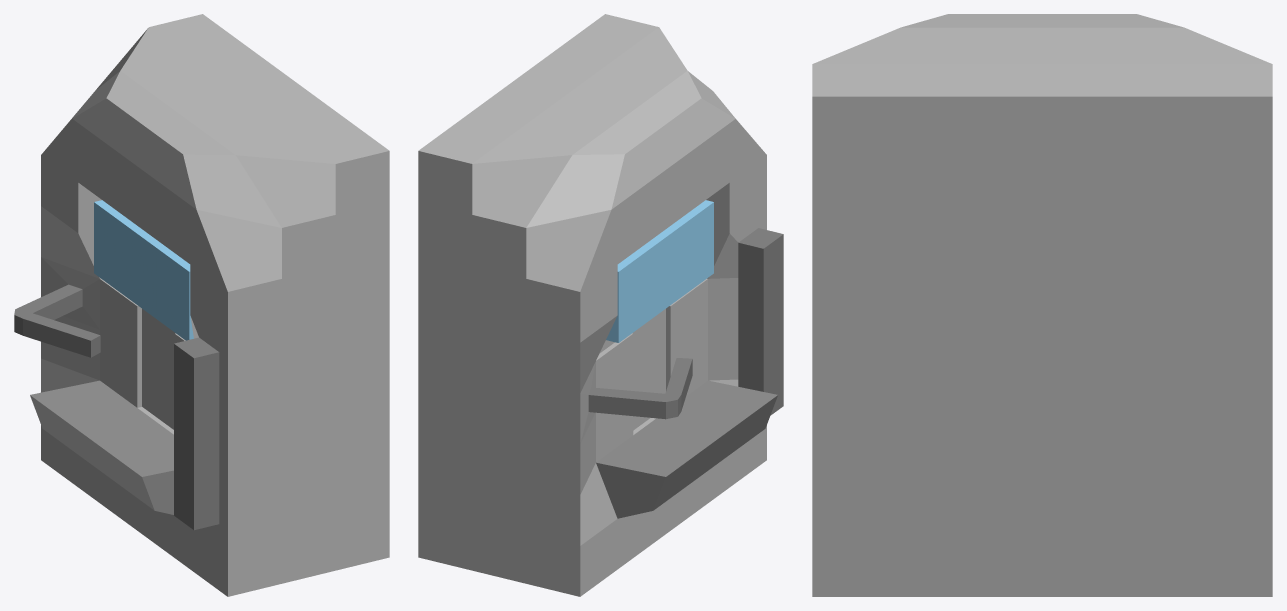
File: AuxiliaryCrafter.fbx
3 views of the same model, side by side, from view 1: azimuth 30°, elevation 25°; view 2: azimuth 150°, elevation 25°; view 3: azimuth 270°, elevation 25° (orthographic). The views are drawn at different scales.
Visible parts, largest first — view 1: Cube; view 2: Cube; view 3: Cube.
Boxes of the visible parts, box(x1,y1,x2,y2) form: Cube: box(14, 14, 389, 596); Cube: box(418, 14, 783, 596); Cube: box(812, 14, 1272, 596).
Size of the model in its own units: 138 by 240 by 200.
